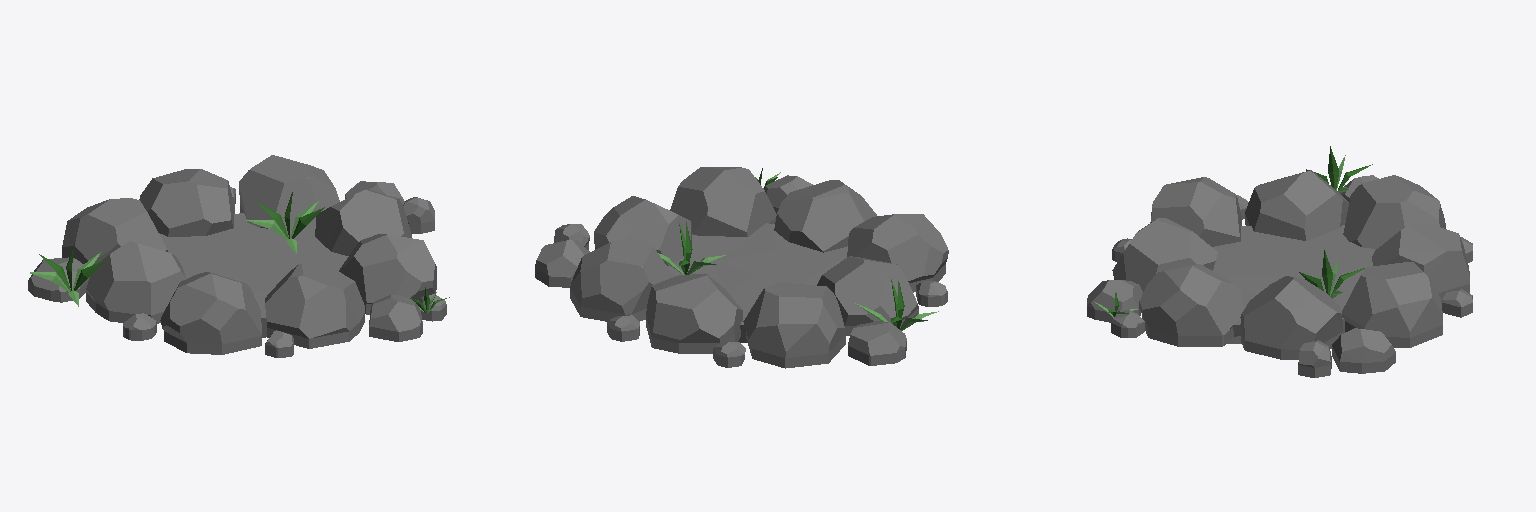
3 renders of one model, left to right at view 1: azimuth 30°, elevation 25°; view 2: azimuth 150°, elevation 25°; view 3: azimuth 270°, elevation 25°, orthographic.
Visible parts, largest first — view 1: Cylinder.004; view 2: Cylinder.004; view 3: Cylinder.004.
Part boxes in pixels (x1,y1,x2,y2): Cylinder.004: (28, 155, 449, 357); Cylinder.004: (535, 167, 948, 368); Cylinder.004: (1087, 146, 1472, 377).
Size of the model in its own units: 3.86 by 0.678 by 3.31.
2 materials, 1 textured.